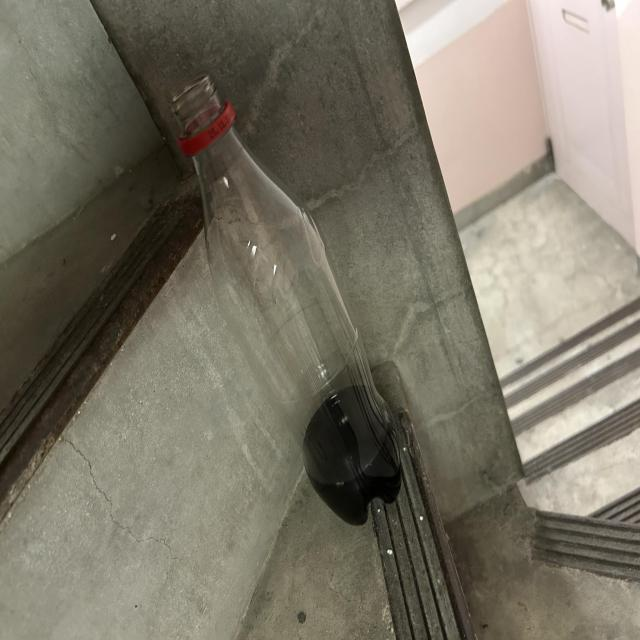low: (172, 75, 401, 525)
